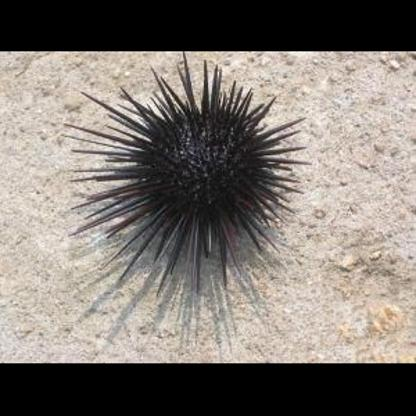urchin: (72, 55, 307, 285)
